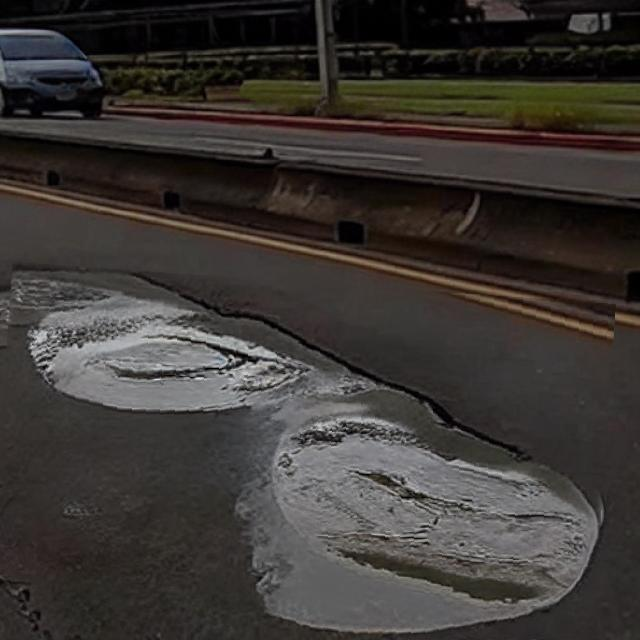puddle: (1, 273, 612, 640)
